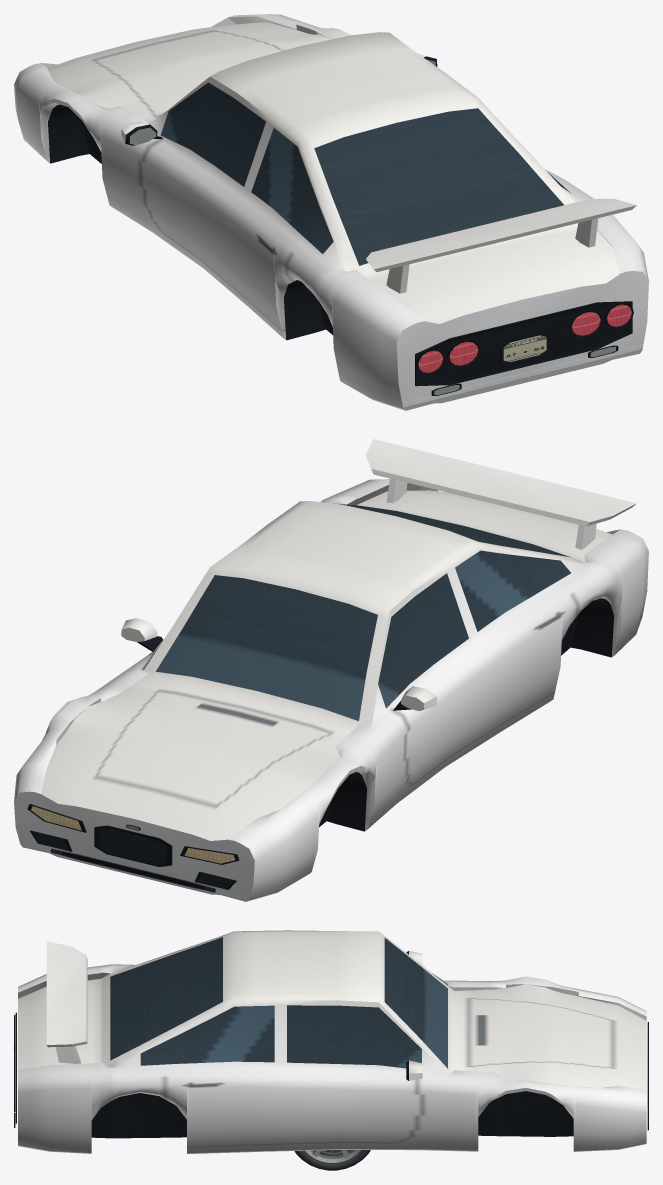
The model's file is iris_22.glb.
3 renders of one model, top to bottom at view 1: azimuth 30°, elevation 25°; view 2: azimuth 150°, elevation 25°; view 3: azimuth 270°, elevation 25°, orthographic. The views are drawn at different scales.
Visible parts, largest first — view 1: Carroceria_iris_22; view 2: Carroceria_iris_22; view 3: Carroceria_iris_22, Roda_iris_22.
Part boxes in pixels (x1,y1,x2,y2): Carroceria_iris_22: [14, 14, 648, 410]; Carroceria_iris_22: [14, 439, 648, 901]; Carroceria_iris_22: [14, 930, 648, 1153]; Roda_iris_22: [294, 1150, 370, 1170].
Bounding box in the file's own units: 2.07 × 1.63 × 4.51.
6 materials, 6 textured.
